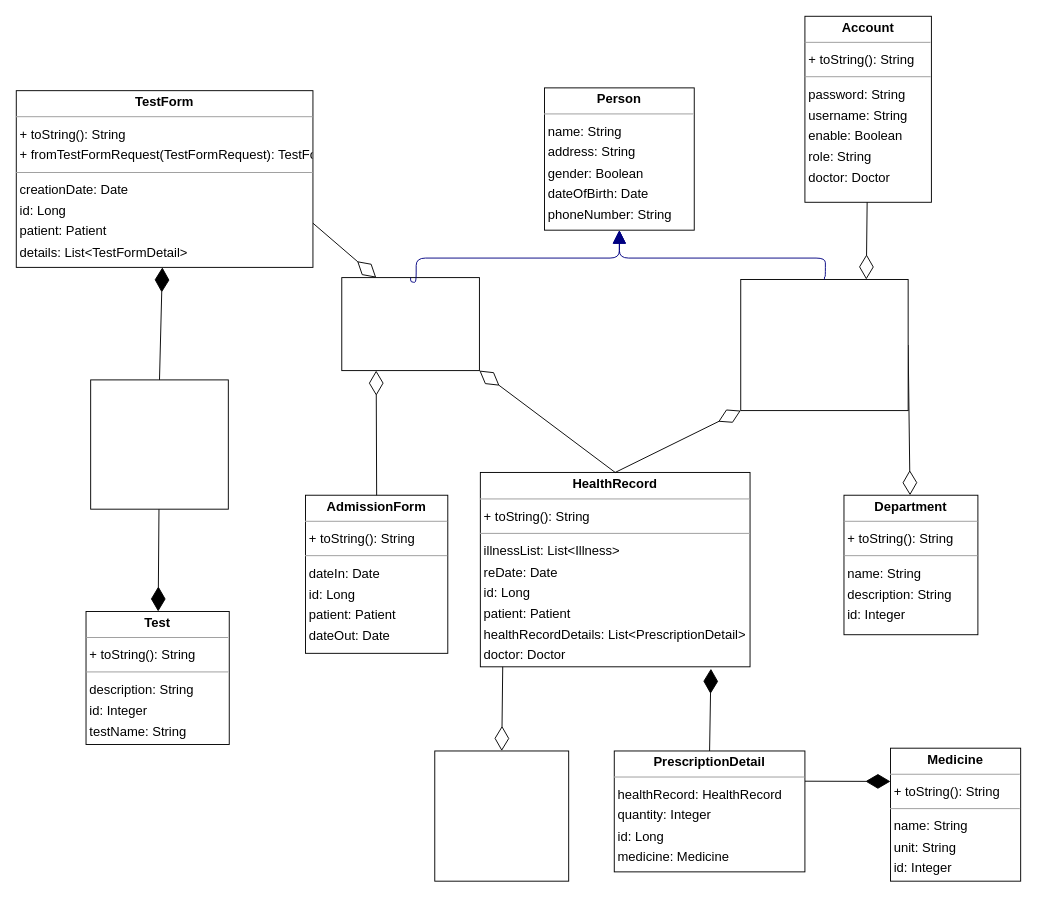
Some shapes in this 1037 by 897 pixel diagram are drawn without their labels. The box of each missing label's shape, as (x1, y1, x2, y2) in pixels:
Doctor + toString(): String id: Long department: Department: (740, 279, 908, 411)
Illness + toString(): String name: String description: String id: Integer: (434, 750, 569, 881)
Patient + toString(): String id: Long: (341, 277, 479, 371)
TestFormDetail result: String test: Test id: Long testForm: TestForm: (90, 379, 228, 509)
